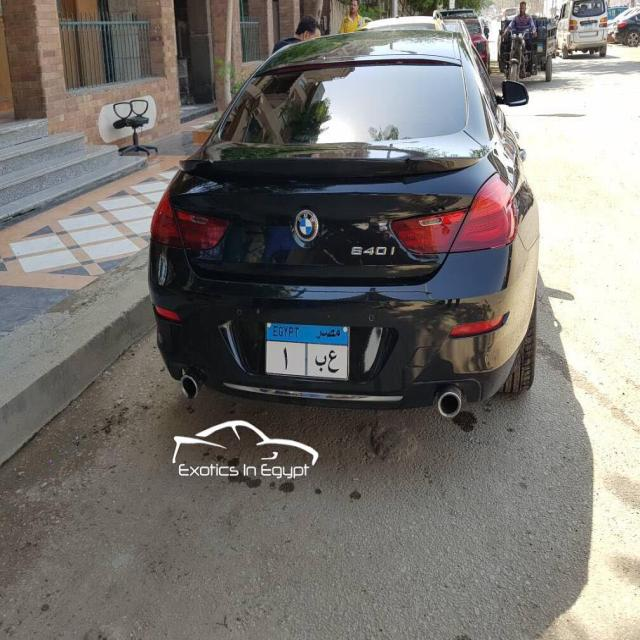License Plate: (264, 320, 350, 382)
